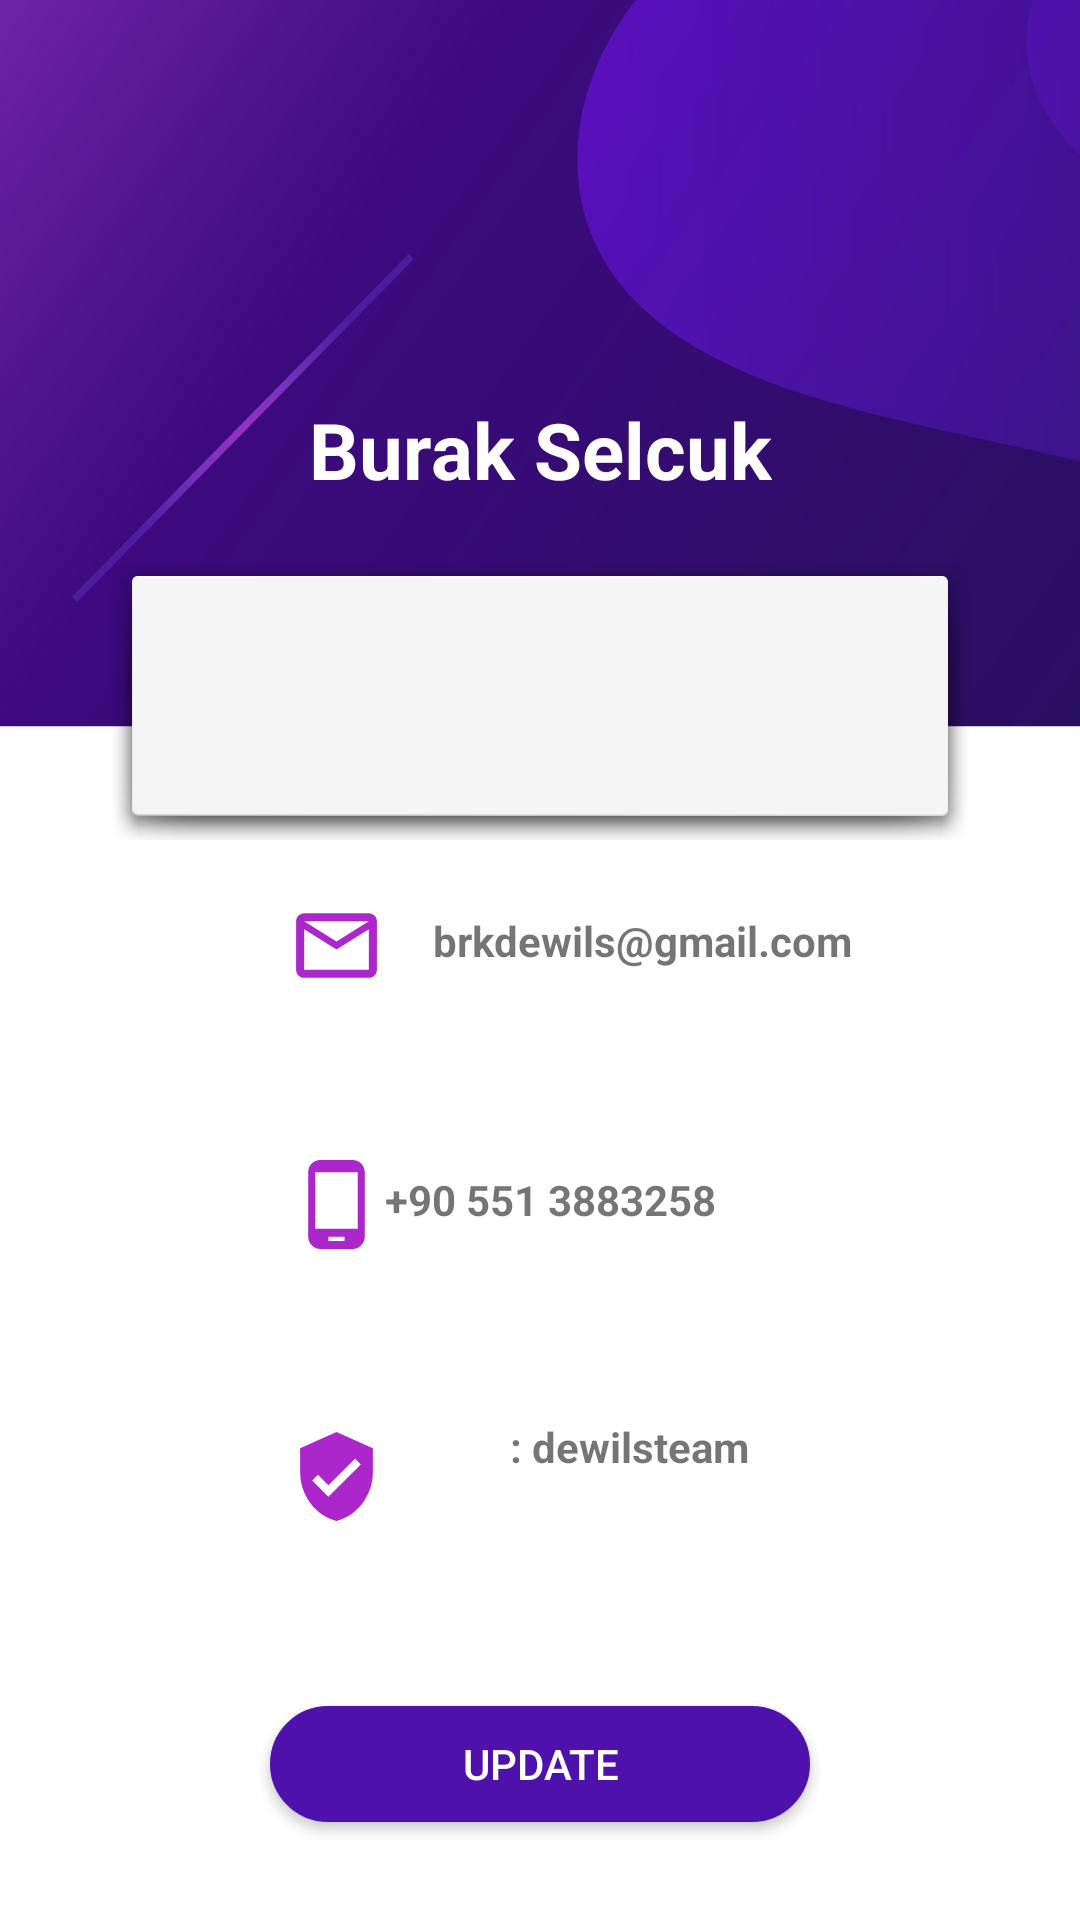

Locate icon controls on the screen. Image size 1080x1920, boxes as (x1, y1, x2, y2).
phone android: (308, 1160, 365, 1249)
verified user: (300, 1432, 373, 1521)
